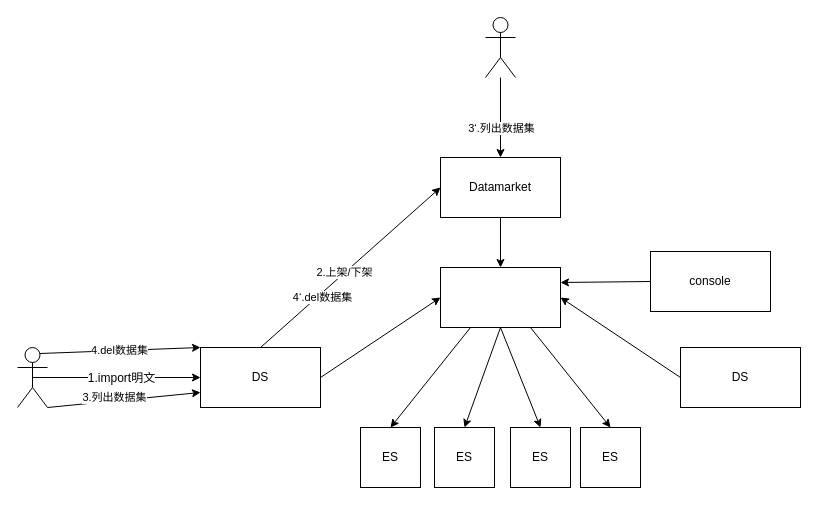
Image size: 818x505. Some labels were removed from this diagram. Each missing label, with the centre of its shape:
"Buyer" belongs at pixel 500 47.
"Seller" belongs at pixel 32 377.
"TM" belongs at pixel 500 297.
